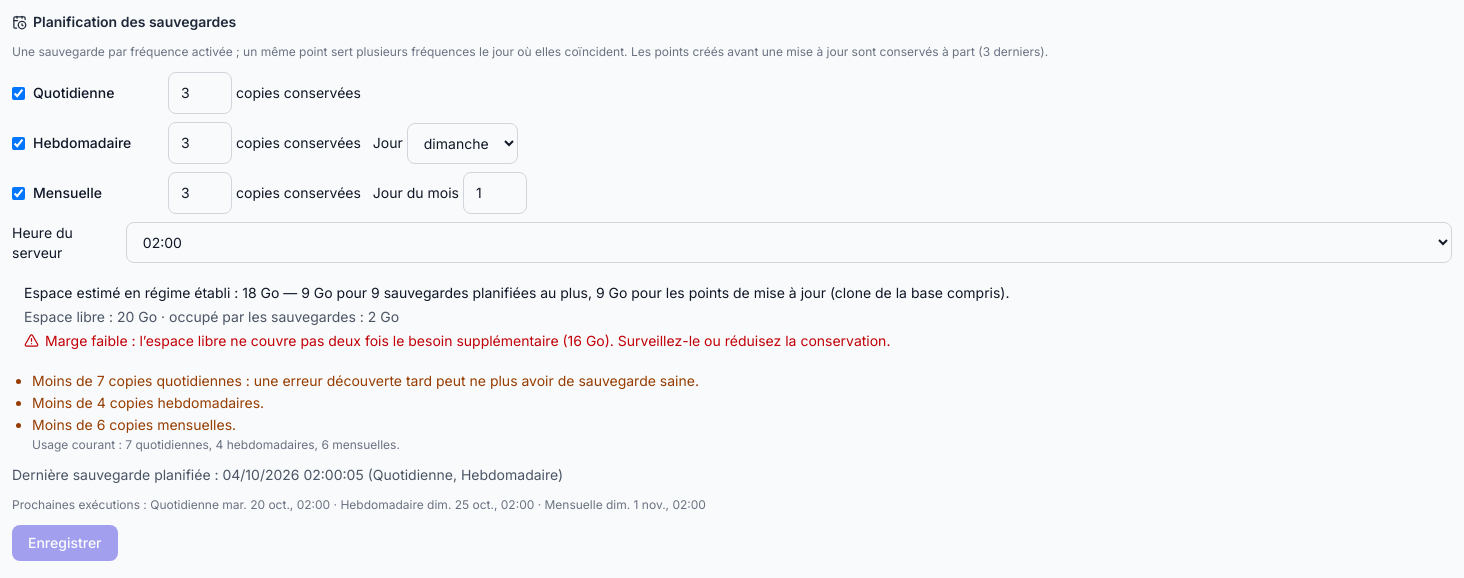
Scenario: BackupSchedulePanel › augmenter la conservation augmente l’estimation et peut dégrader le verdict
Expected: the message with test id "verdict" shows "Marge faible", x1=45 y1=332 x2=890 y2=349
Replace the text in the number field named "Quotidienne — copies conservées" with "30": (200, 93) x1=168 y1=72 x2=232 y2=114
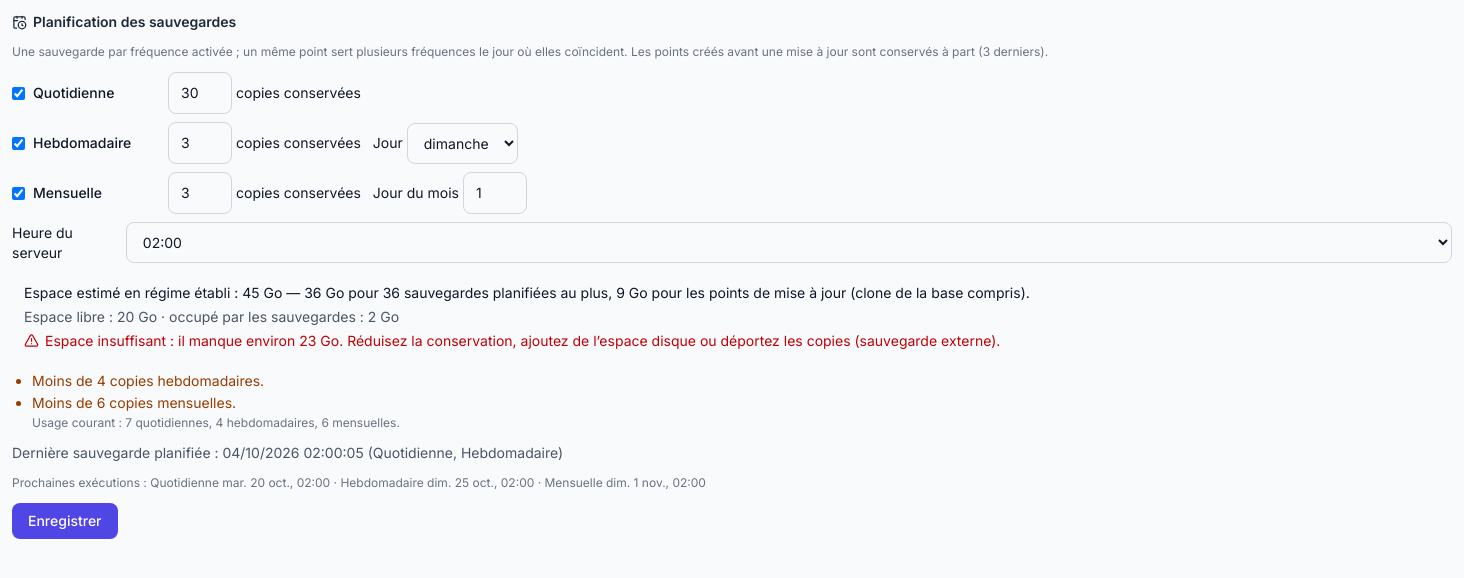
Expected: the text with test id "estimate" shows "36 sauvegardes planifiées au plus", x1=24 y1=284 x2=1030 y2=301
Expected: the message shows "Espace insuffisant", x1=45 y1=332 x2=1000 y2=349
